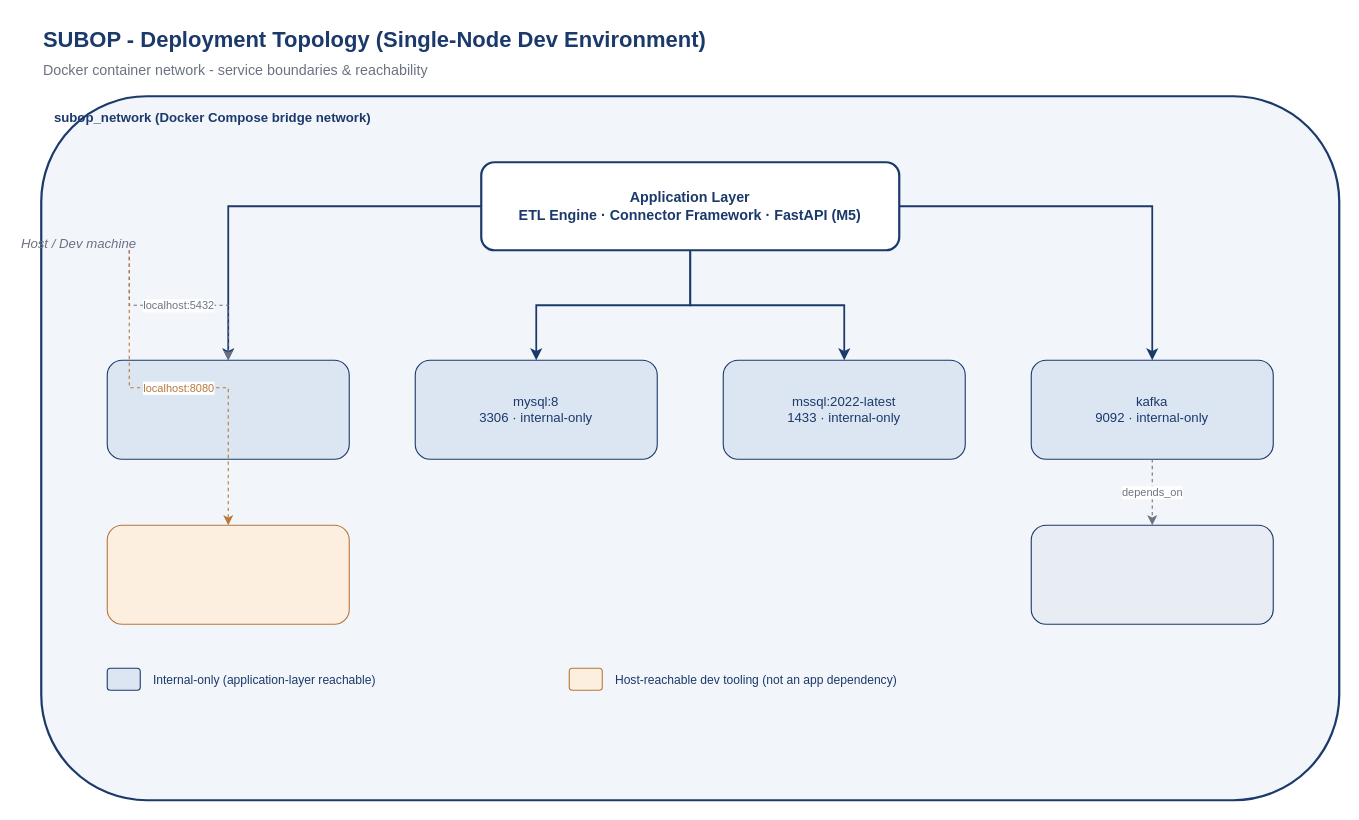
Image size: 1359x820. Some labels were removed from this diagram. The shapes that lost their labels are listed below. From the top down, each one's centre as x and y in pixels, then its label:
the point at 227,409: postgres:15 5432 · internal-only
the point at 227,574: pgadmin 8080 · host-reachable (dev GUI only)
the point at 1151,574: zookeeper 2181 · internal-only, required by kafka
